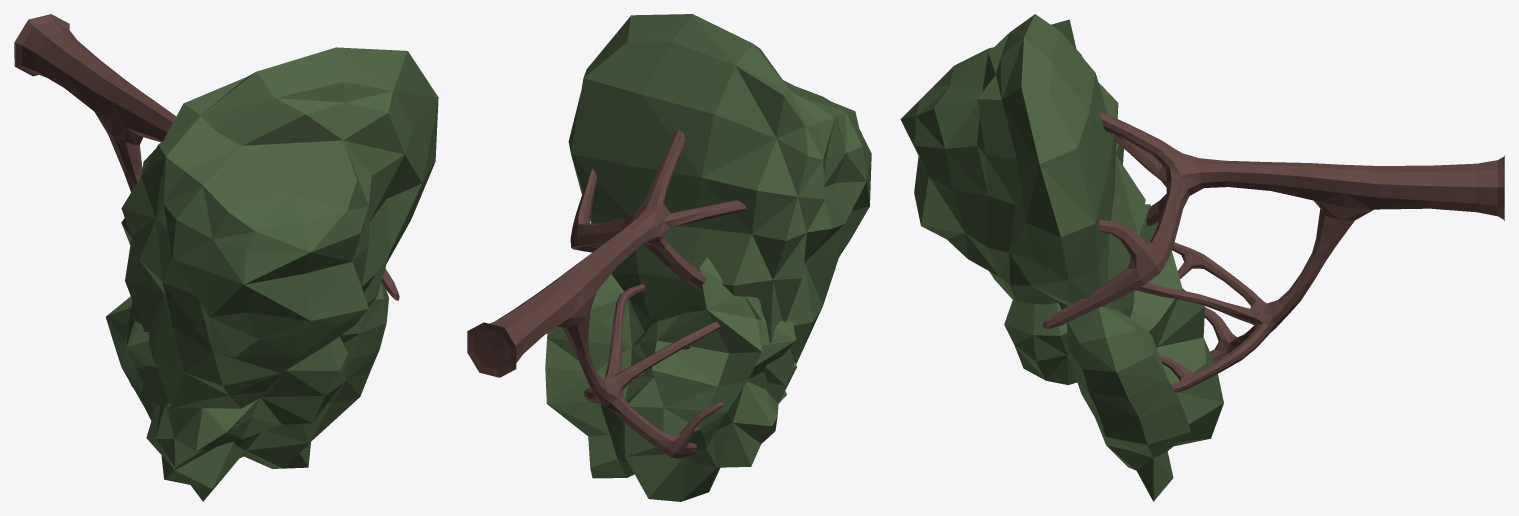
File: tree-deciduous-2-26-ft.obj
3 views of the same model, side by side, from view 1: azimuth 30°, elevation 25°; view 2: azimuth 150°, elevation 25°; view 3: azimuth 270°, elevation 25° (orthographic). The views are drawn at different scales.
Parts seen in each view (by area): view 1: tree-deciduous-2-26-ft; view 2: tree-deciduous-2-26-ft; view 3: tree-deciduous-2-26-ft.
Boxes of the visible parts, box(x1,y1,x2,y2) form: tree-deciduous-2-26-ft: box(14, 14, 438, 501); tree-deciduous-2-26-ft: box(467, 14, 871, 501); tree-deciduous-2-26-ft: box(900, 14, 1504, 501).
Bounding box in the file's own units: 166 × 254 × 312.
